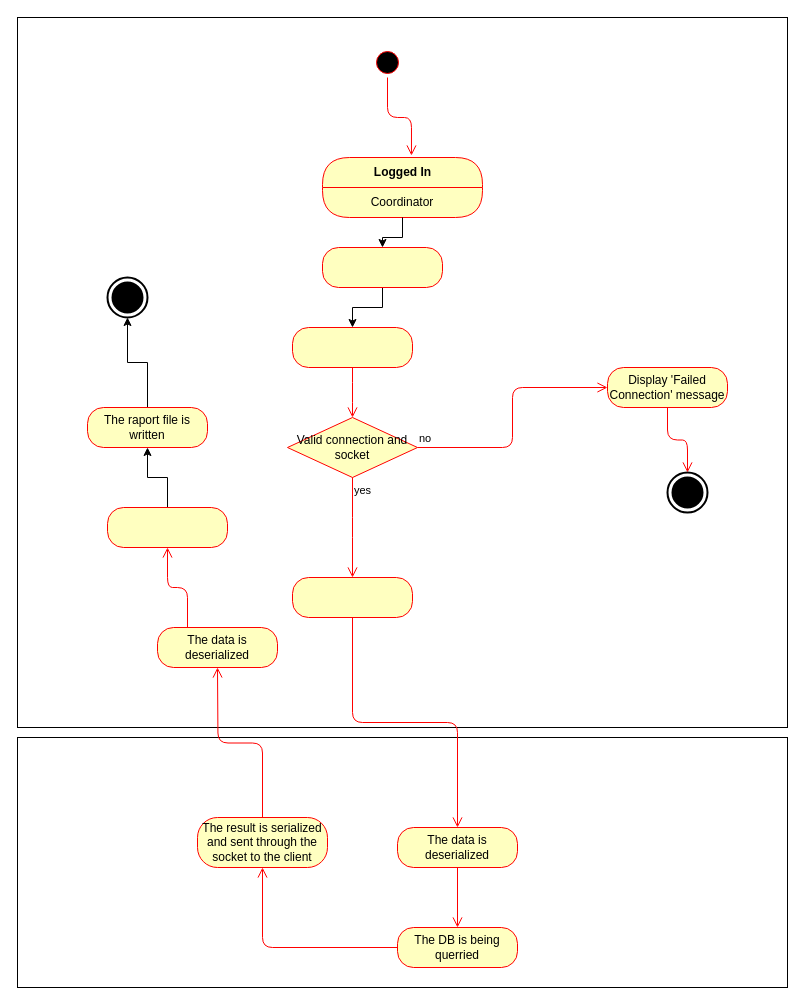
This 805x1005 diagram has some shape labels left out. The shapes that lost their labels are listed below. From the top down, each one's centre as x and y in pixels, then its label:
point (382, 267): Chooses an option: XML, JSON or CSV
point (352, 347): Save Raport button clicked
point (167, 527): The data is serialized into the desired format
point (352, 597): Send request through the socket
